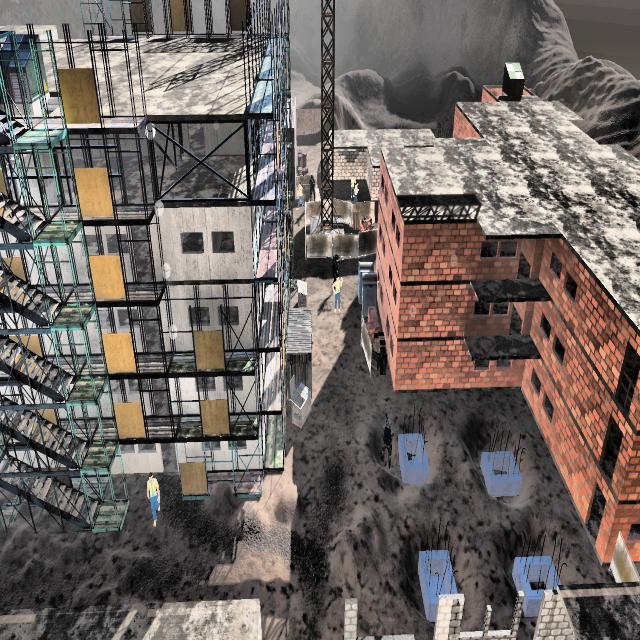bad: (378, 405, 396, 473), (306, 169, 318, 205), (331, 243, 342, 277)
good: (142, 466, 164, 534), (332, 275, 344, 312), (296, 181, 304, 211), (353, 178, 358, 201), (350, 168, 354, 192)
